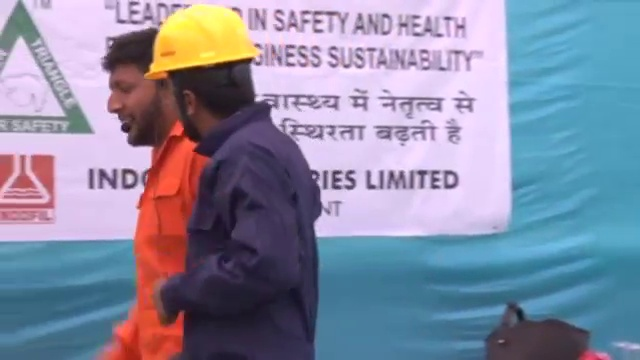helmet: (145, 5, 258, 82)
helmet_off: (102, 29, 174, 146)
helmet_on: (144, 3, 272, 143)
person: (136, 5, 328, 360), (83, 28, 195, 360)
